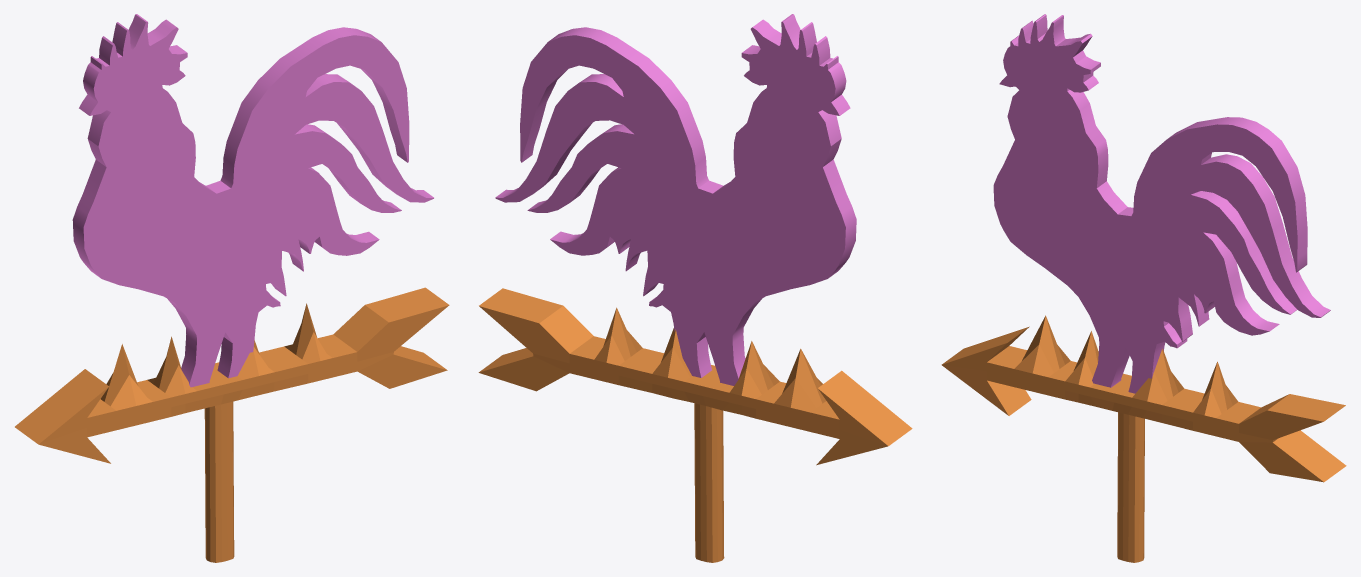
The model's file is Gallo (1).fbx.
The picture shows the model from 3 angles, left to right: view 1: azimuth 30°, elevation 25°; view 2: azimuth 150°, elevation 25°; view 3: azimuth 330°, elevation 25°; orthographic projection. The views are drawn at different scales.
Parts seen in each view (by area): view 1: Plane.001, Plane; view 2: Plane.001, Plane; view 3: Plane.001, Plane.
Part boxes in pixels (bbox=[...]): Plane.001: bbox=[72, 14, 433, 387]; Plane: bbox=[15, 287, 449, 562]; Plane.001: bbox=[495, 14, 856, 385]; Plane: bbox=[478, 288, 912, 562]; Plane.001: bbox=[993, 14, 1330, 393]; Plane: bbox=[941, 315, 1346, 562].
Size of the model in its own units: 402 by 523 by 42.75.
